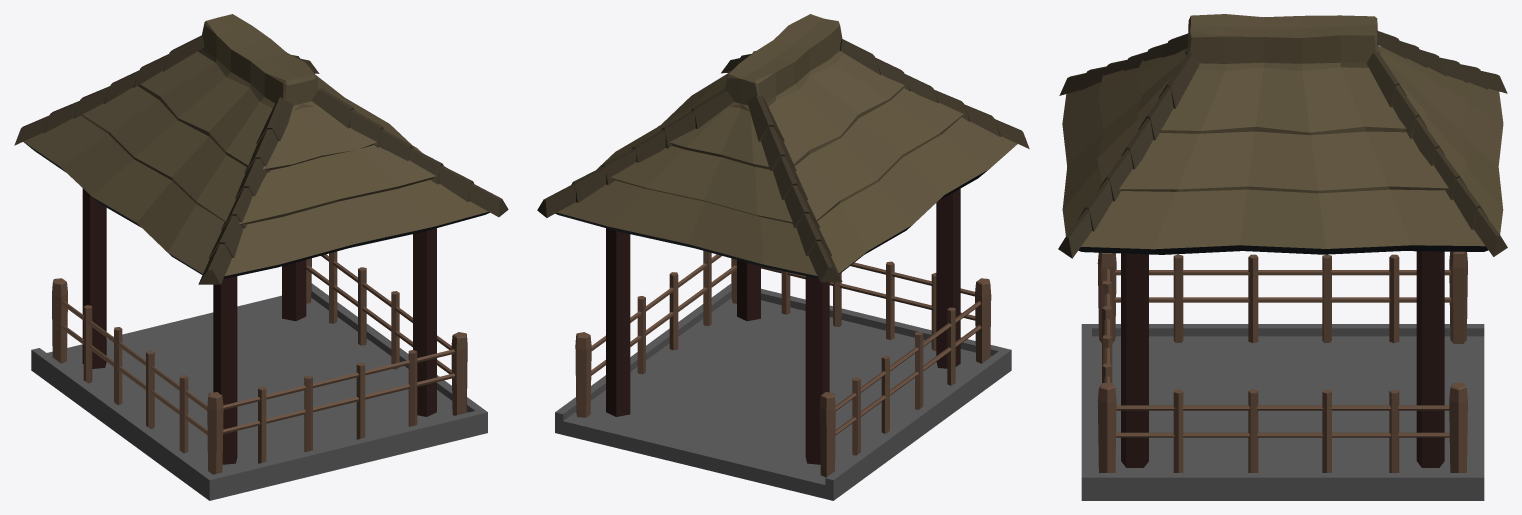
3 renders of one model, left to right at view 1: azimuth 30°, elevation 25°; view 2: azimuth 150°, elevation 25°; view 3: azimuth 270°, elevation 25°, orthographic. The views are drawn at different scales.
Parts seen in each view (by area): view 1: 亭子; view 2: 亭子; view 3: 亭子.
Boxes of the visible parts, left/top/right/bottom form: 亭子: left=14, top=14, right=508, bottom=500; 亭子: left=537, top=14, right=1029, bottom=500; 亭子: left=1058, top=14, right=1507, bottom=500.
Size of the model in its own units: 469 by 513 by 522.
